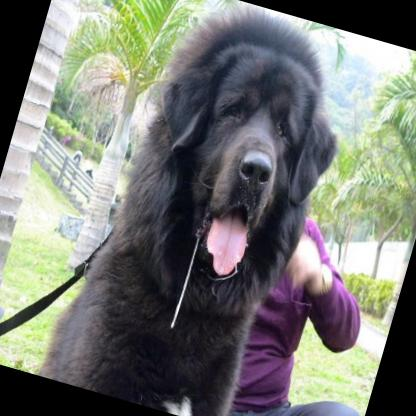Tibetan_mastiff: (37, 0, 371, 416)
